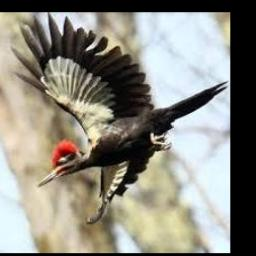Woodpecker: (11, 12, 228, 223)
